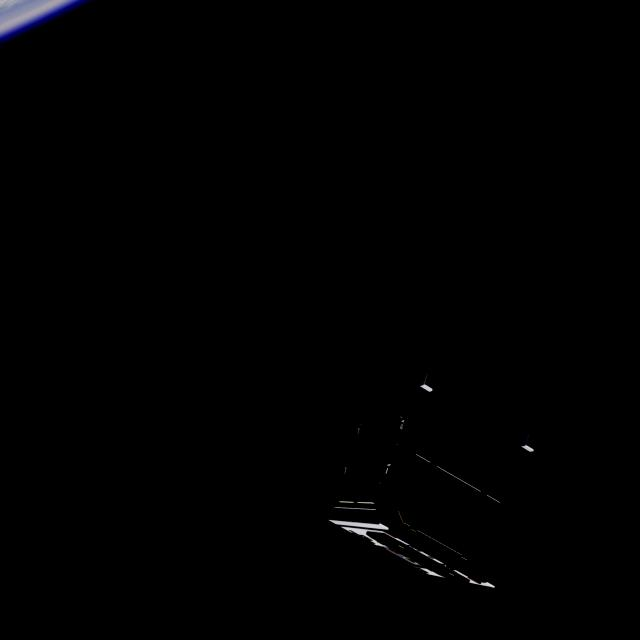satellite: (322, 364, 548, 595)
